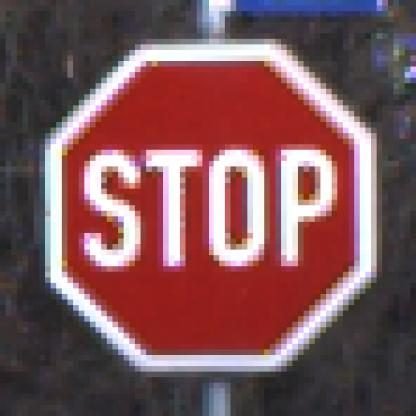stop: (39, 38, 378, 387)
